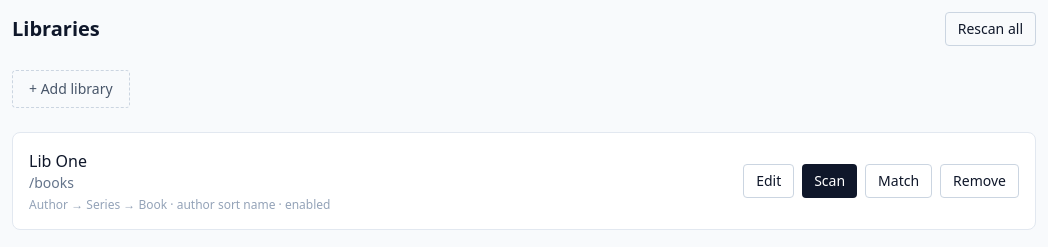
Test: LibraryPage edit form › rescan-all POSTs /libraries/rescan-all and reports the queued count
Click the button "Rescan all".
click(990, 29)  # box [945,12,1036,46]
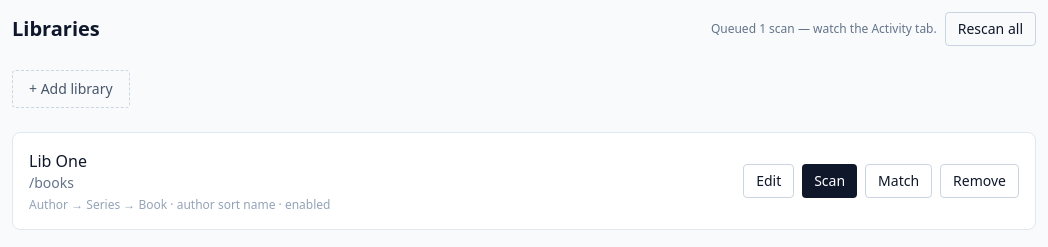
Check: the text "Queued 1 scan — watch the Activity tab." is shown, box [711,21,937,37]
